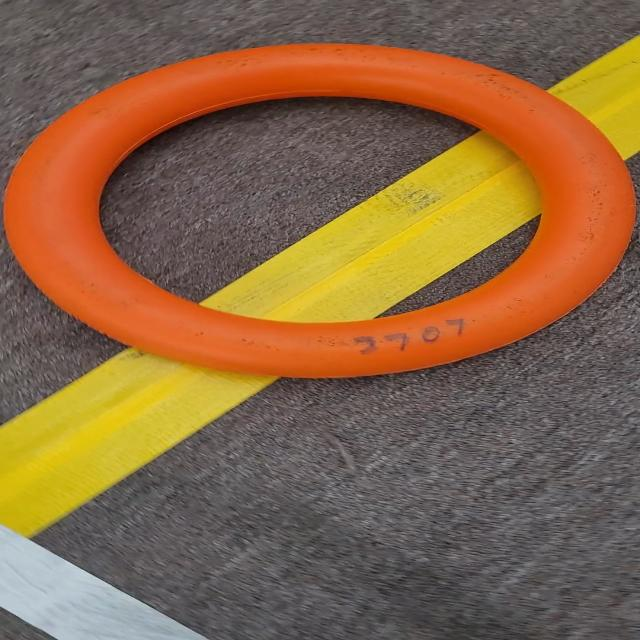note: (0, 30, 640, 386)
